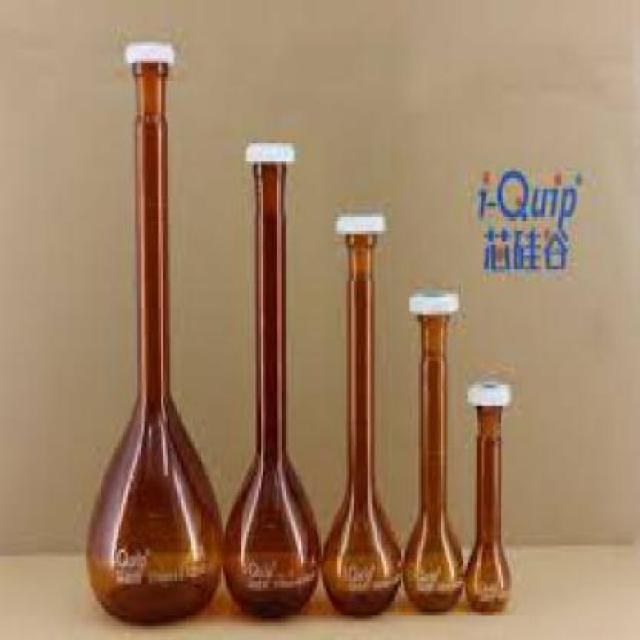kaca: (86, 55, 222, 623), (218, 162, 318, 616), (322, 231, 400, 615), (403, 311, 463, 615), (463, 398, 508, 610)
